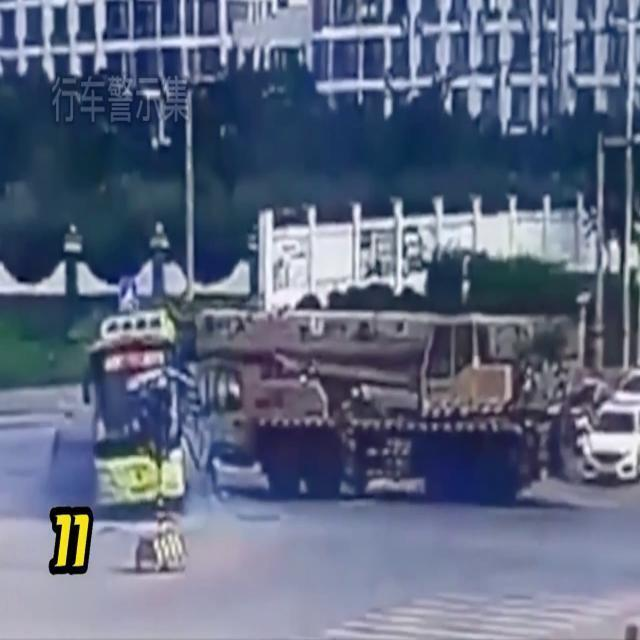accident: (80, 306, 564, 514)
